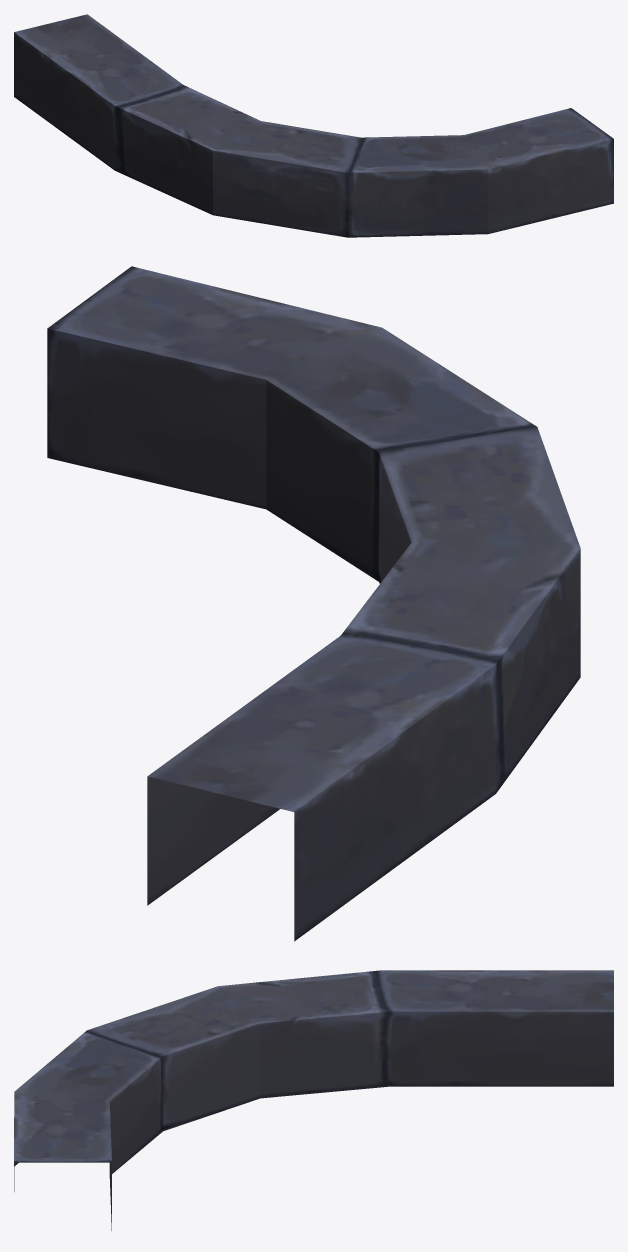
File: sn_chengbao_fbbrick_002.FBX
The picture shows the model from 3 angles, top to bottom: view 1: azimuth 30°, elevation 25°; view 2: azimuth 150°, elevation 25°; view 3: azimuth 270°, elevation 25°; orthographic projection. The views are drawn at different scales.
Parts seen in each view (by area): view 1: sn_chengbao_fbbrick_002; view 2: sn_chengbao_fbbrick_002; view 3: sn_chengbao_fbbrick_002.
Boxes of the visible parts, bbox=[...] form: sn_chengbao_fbbrick_002: bbox=[14, 14, 613, 237]; sn_chengbao_fbbrick_002: bbox=[47, 266, 580, 941]; sn_chengbao_fbbrick_002: bbox=[14, 970, 613, 1230].
Size of the model in its own units: 615 by 811 by 112.
